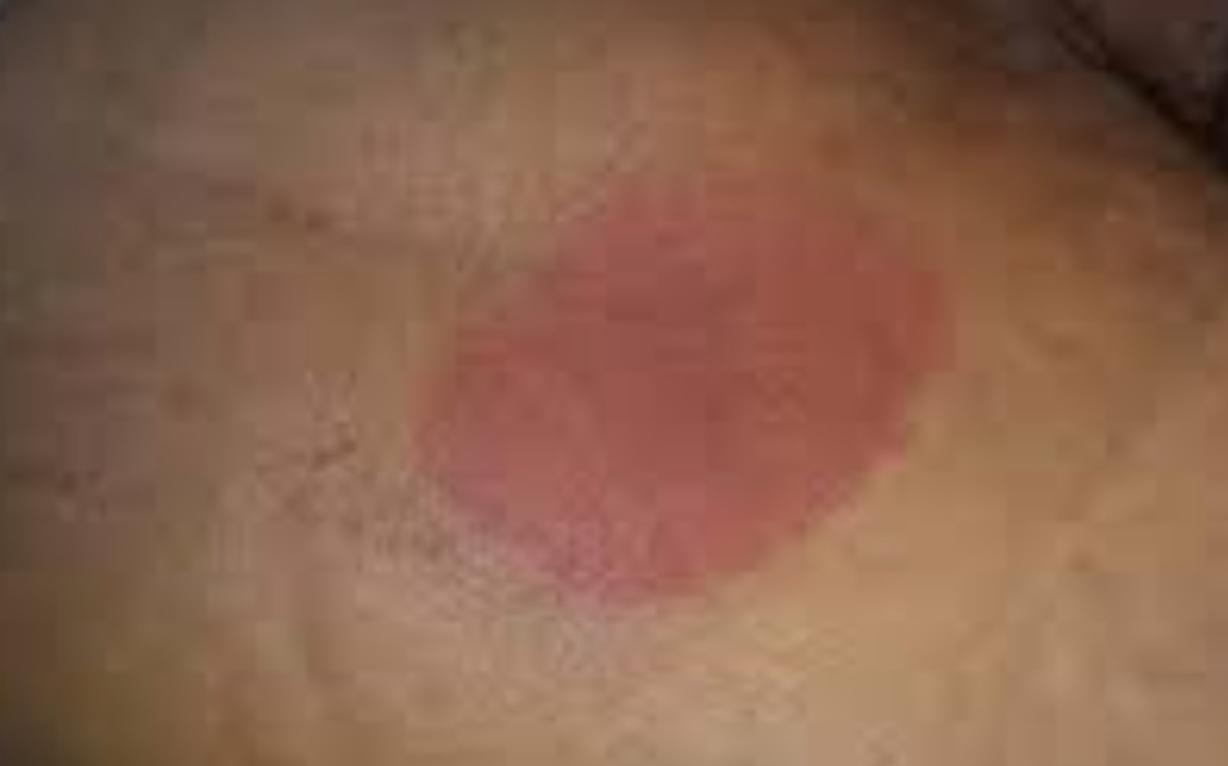Stage1: (347, 53, 1004, 660)
